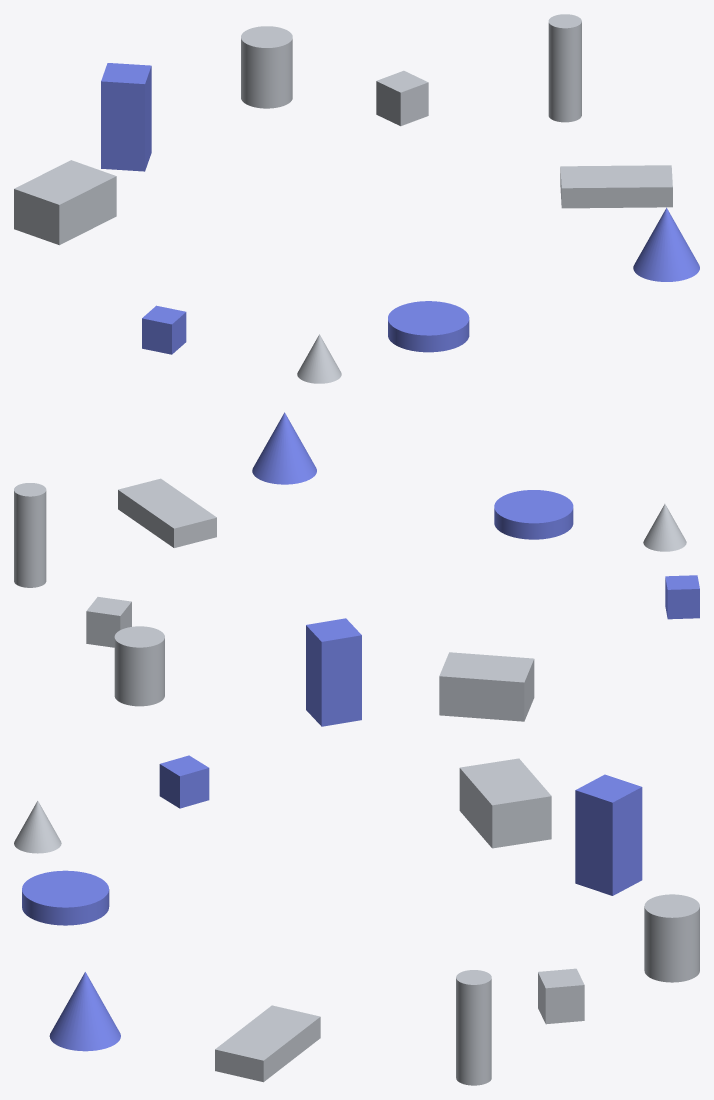
The model's file is blocks.glb.
3 views of the same model, one above another, from view 1: azimuth 30°, elevation 25°; view 2: azimuth 150°, elevation 25°; view 3: azimuth 270°, elevation 25° (orthographic). The views are drawn at different scales.
Visible parts, largest first — view 1: Box (×5), Cylinder (×3), Cone (×2); view 2: Box (×5), Cylinder (×3), Cone (×2); view 3: Box (×5), Cylinder (×3), Cone (×2).
Part boxes in pixels (left/top/right/bottom): Box (×5): left=14, top=63, right=672, bottom=354; Cylinder (×3): left=241, top=14, right=581, bottom=352; Cone (×2): left=297, top=207, right=699, bottom=383; Box (×5): left=86, top=478, right=699, bottom=726; Cylinder (×3): left=14, top=483, right=573, bottom=706; Cone (×2): left=252, top=412, right=686, bottom=551; Box (×5): left=159, top=755, right=642, bottom=1082; Cylinder (×3): left=22, top=870, right=699, bottom=1085; Cone (×2): left=14, top=800, right=120, bottom=1051.
Size of what is drawn, in the model's own units: 17.78 by 2.8 by 17.3.
